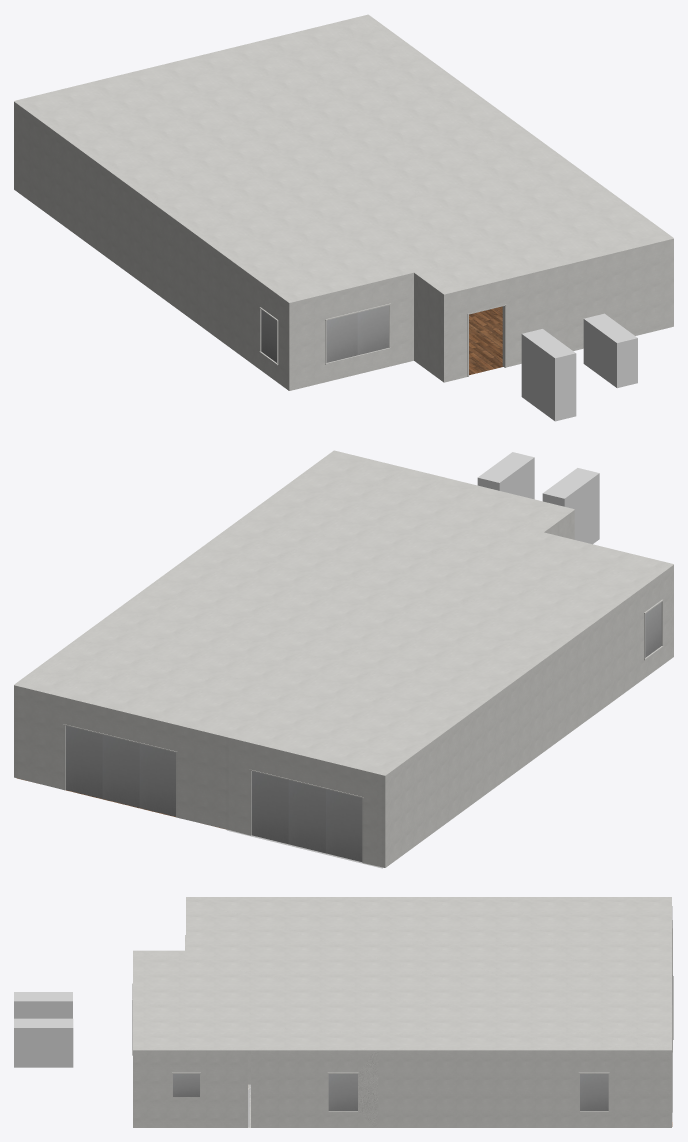
File: GJHouseBetter2.fbx
The picture shows the model from 3 angles, top to bottom: view 1: azimuth 30°, elevation 25°; view 2: azimuth 150°, elevation 25°; view 3: azimuth 270°, elevation 25°; orthographic projection. The views are drawn at different scales.
Parts seen in each view (by area): view 1: Plane, Cube.001, Cube.002, Cube.021, Plane.001, Cube.022; view 2: Plane, Cube.024, Cube.023, Cube.001, Cube.002, Cube.022; view 3: Plane, Cube.002, Cube.001, Cube.018, Cube.020, Cube.019.
Part boxes in pixels (x1,y1,x2,y2): Plane: [14, 14, 673, 390]; Cube.001: [521, 329, 576, 421]; Cube.002: [583, 313, 637, 388]; Cube.021: [326, 305, 388, 362]; Plane.001: [469, 306, 503, 375]; Cube.022: [261, 310, 276, 362]; Plane: [14, 450, 673, 867]; Cube.024: [251, 771, 362, 861]; Cube.023: [65, 725, 175, 816]; Cube.001: [542, 468, 599, 544]; Cube.002: [477, 452, 534, 499]; Cube.022: [645, 602, 661, 657]; Plane: [132, 897, 672, 1127]; Cube.002: [14, 1018, 73, 1067]; Cube.001: [14, 992, 72, 1018]; Cube.018: [328, 1074, 357, 1110]; Cube.020: [580, 1074, 608, 1110]; Cube.019: [173, 1074, 199, 1096].
Size of the model in its own units: 818 by 195 by 1485.
